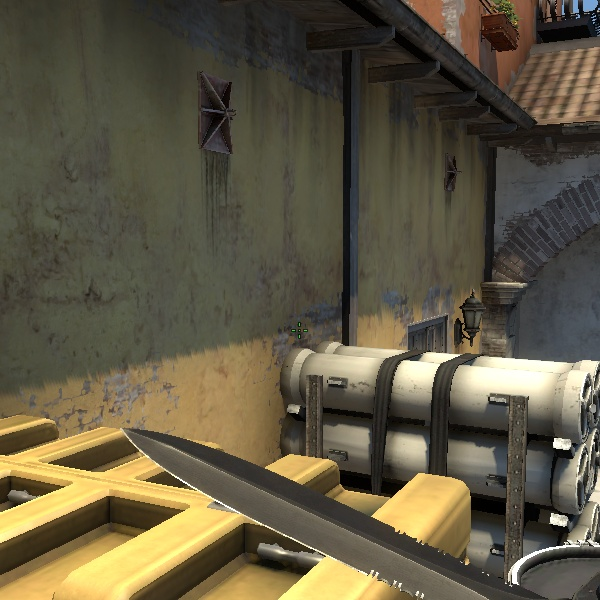t_head: (429, 0, 600, 103)
